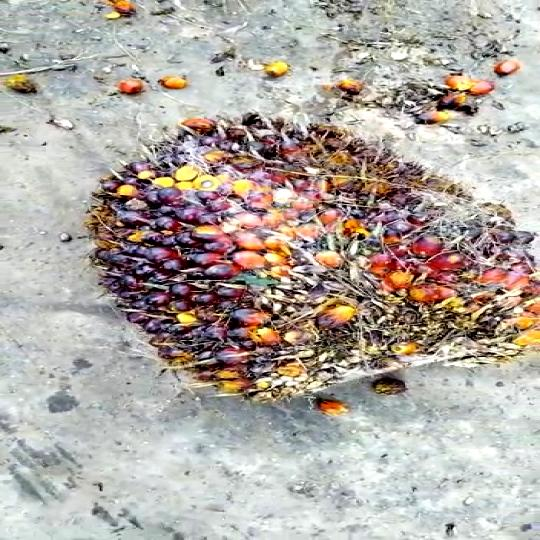masak: (81, 105, 540, 407)
